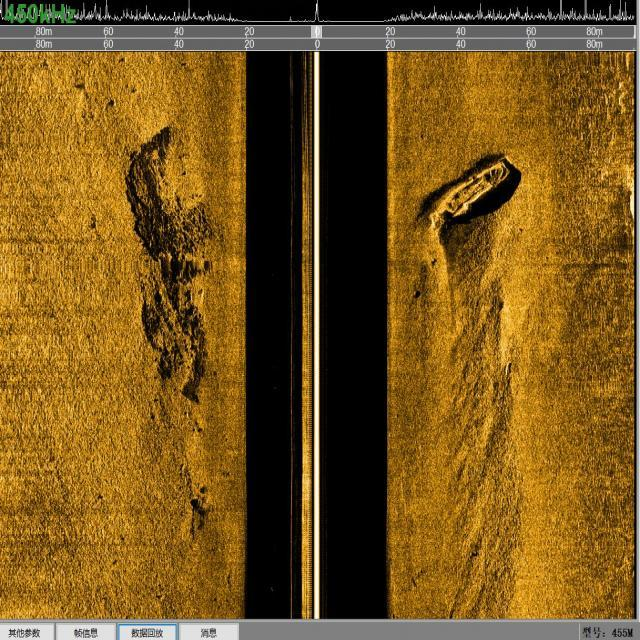shipwreck: (430, 151, 514, 228)
